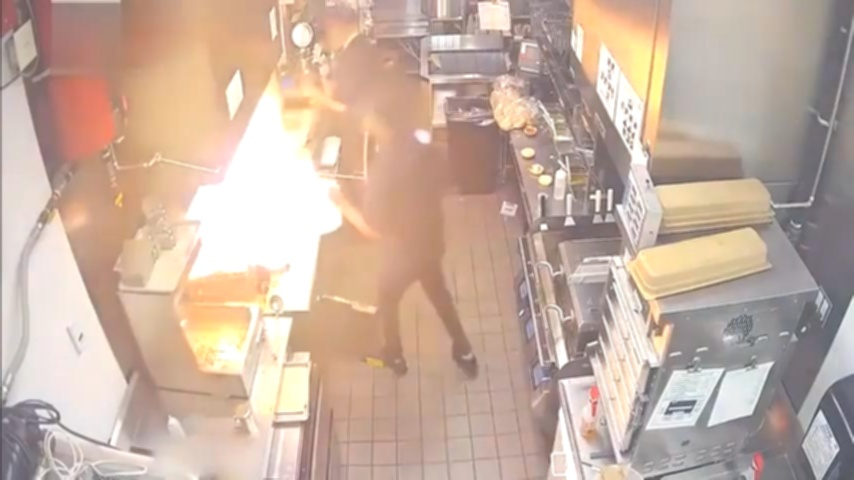fire: (167, 73, 359, 309)
